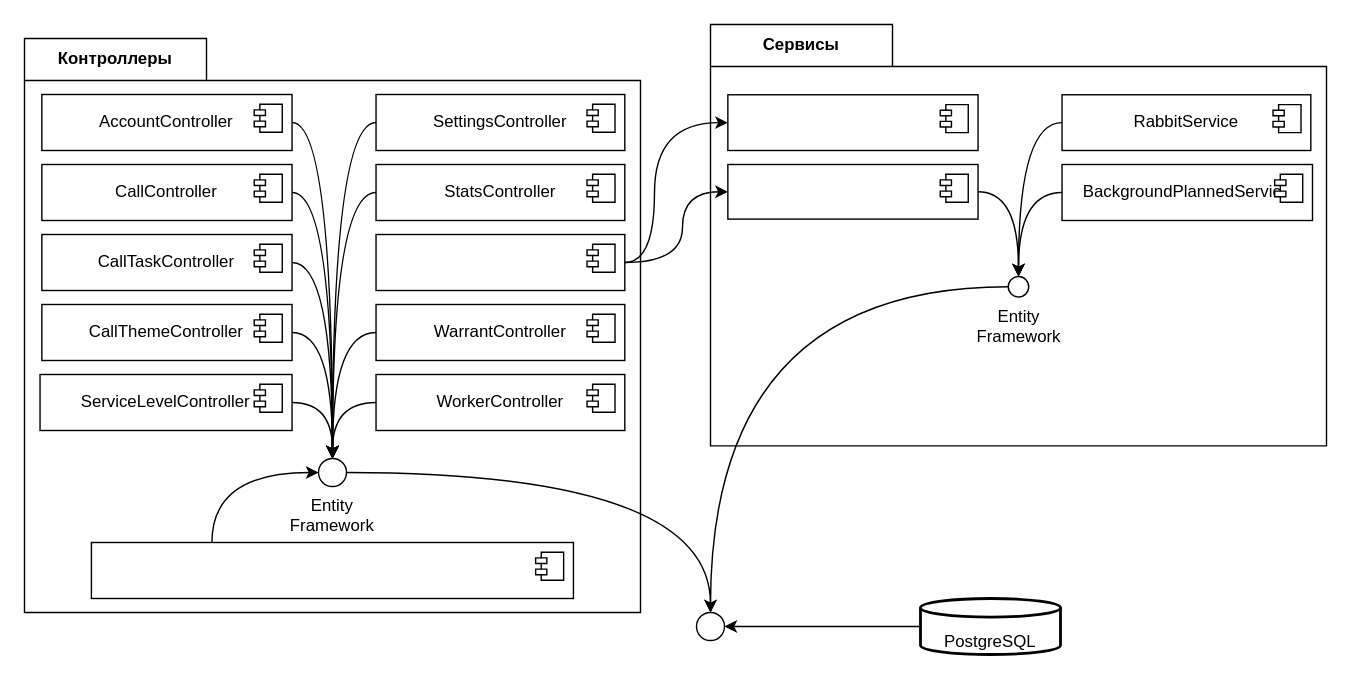
The diagram is 1351 pixels wide and 694 high, and some of its shapes have lost their labels. The shapes that lost their labels are listed below. From the top down, each one's centre as x and y in pixels, then its label:
At (852,121): "EmailService".
At (852,191): "UserService".
At (500,261): "UserController".
At (331,569): "PlannedServiceController".
At (709,625): "sql".
